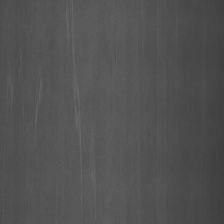silk_spot: (69, 60, 89, 162), (28, 64, 49, 138), (59, 6, 77, 55), (6, 48, 20, 105)
